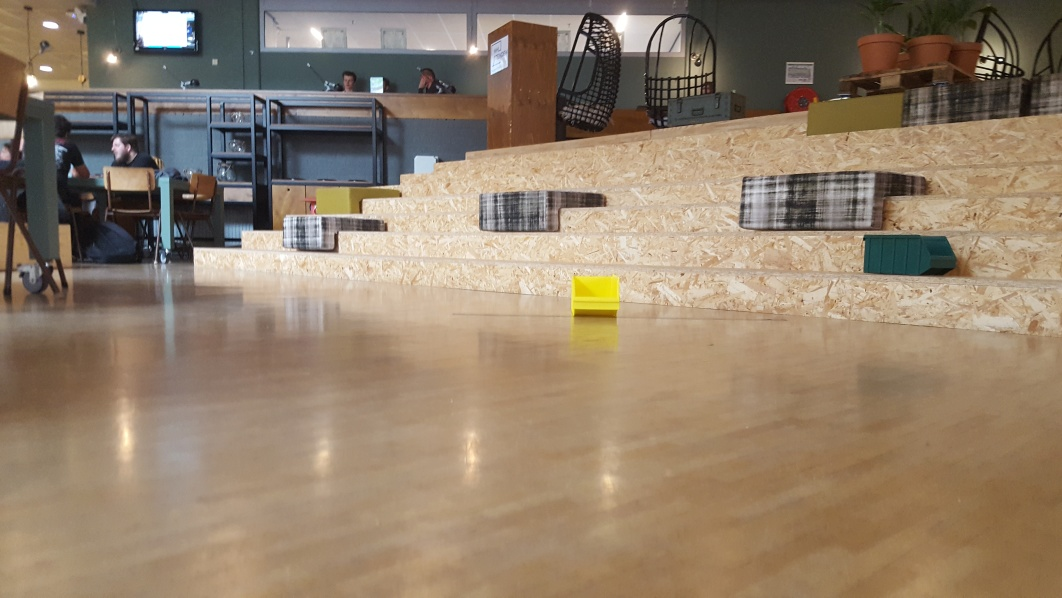tray: (854, 231, 960, 274), (567, 273, 623, 319)
